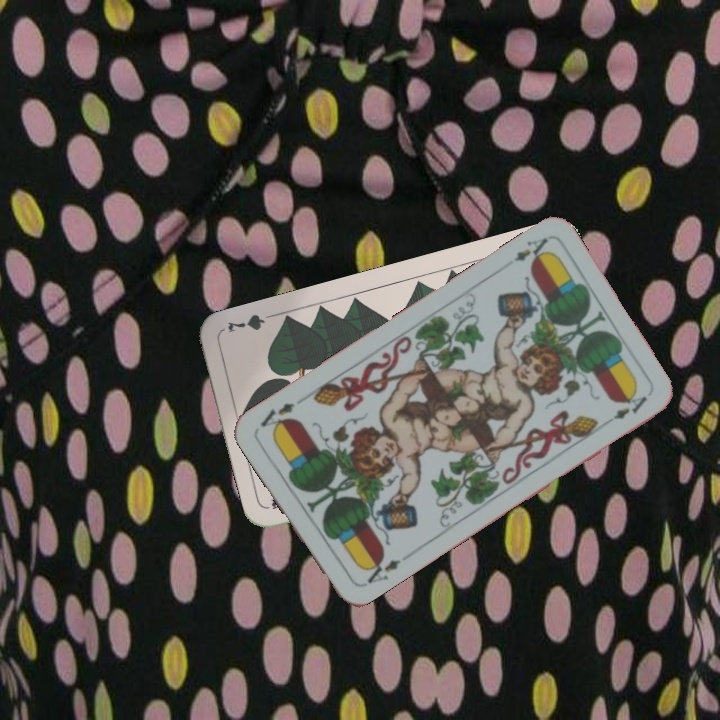EA: (358, 551, 404, 587), (509, 233, 553, 266)
